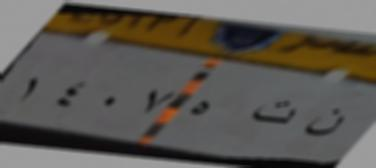0: (96, 90, 123, 114)
1: (14, 72, 42, 106)
4: (55, 80, 86, 112)
7: (139, 82, 176, 116)
haa: (185, 98, 215, 121)
noon: (304, 102, 350, 141)
taa: (246, 93, 297, 131)
